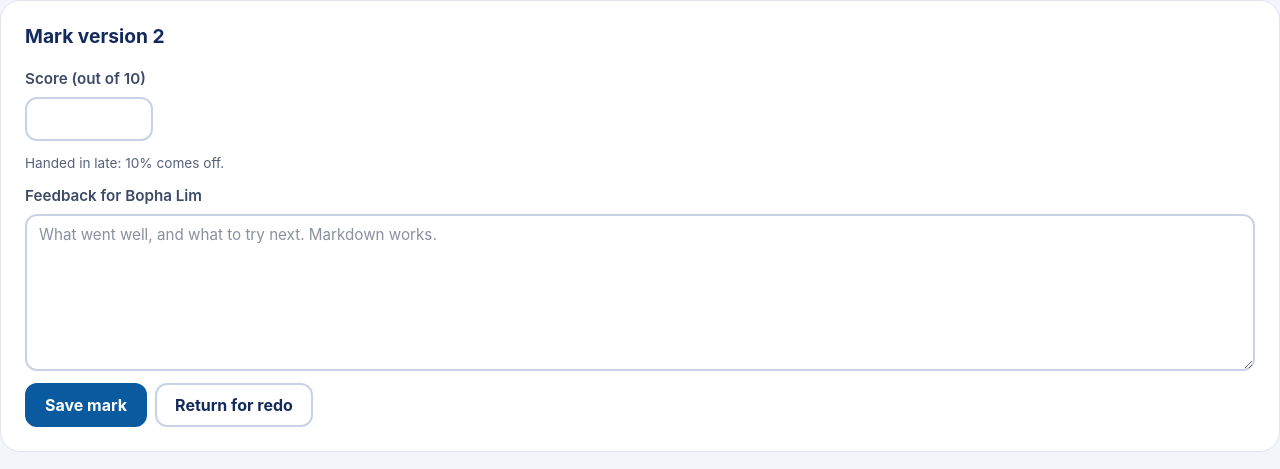
it: GradeForm › BR-14: for late work, shows what the score counts as after the penalty
The width and height of the screenshot is (1280, 469).
In the field labelled "Score (out of 10)": (89, 119) [25,97,153,141], type "8"
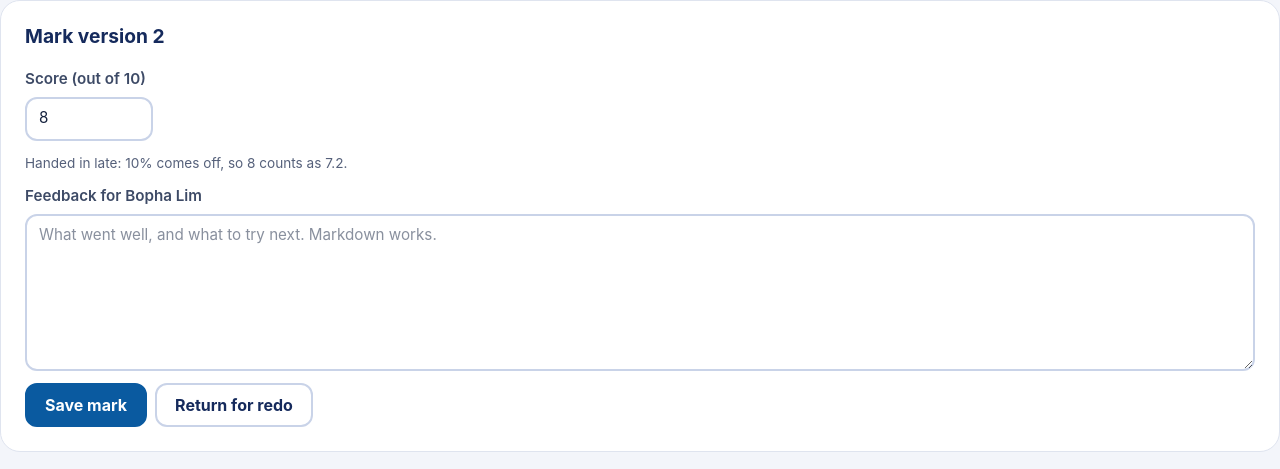
Result: the text with test id "penalty" reads "Handed in late: 10% comes off, so 8 counts as 7.2." at [25,155,347,171]
